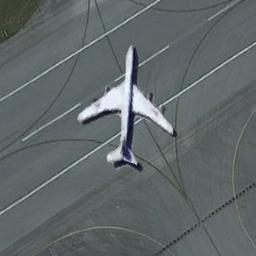Airplane: (76, 44, 175, 171)
